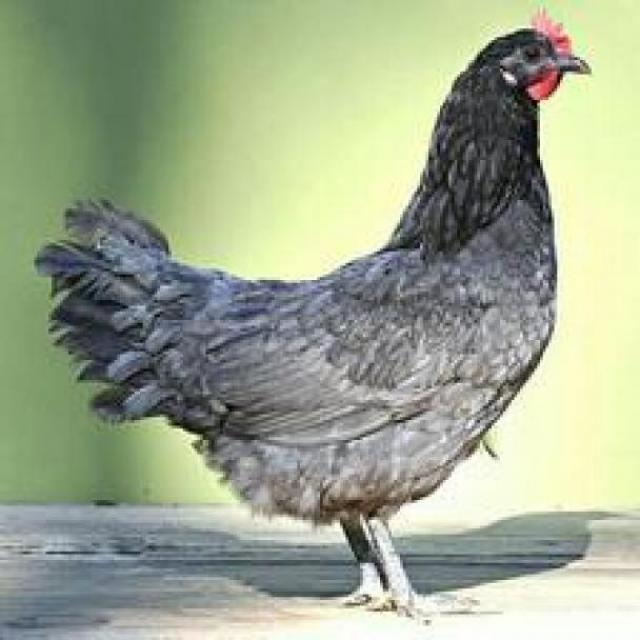Chicken: (36, 23, 620, 640)
